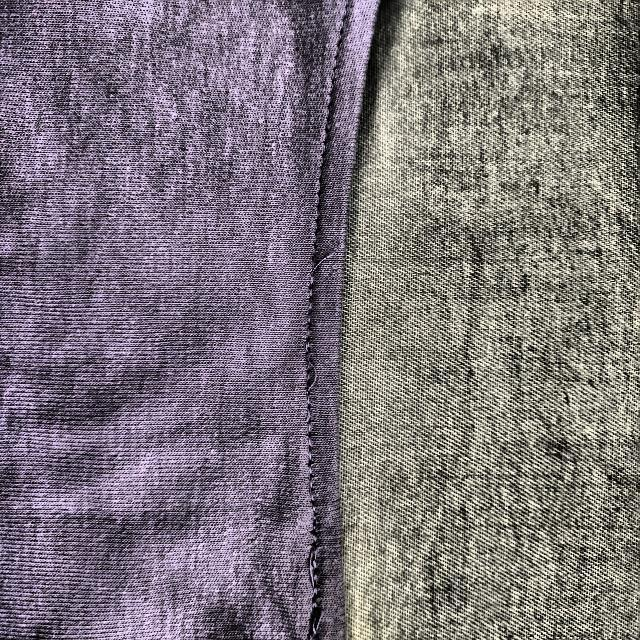gray stitch: (304, 236, 341, 296), (305, 533, 330, 595), (302, 347, 321, 410), (306, 599, 324, 638)
